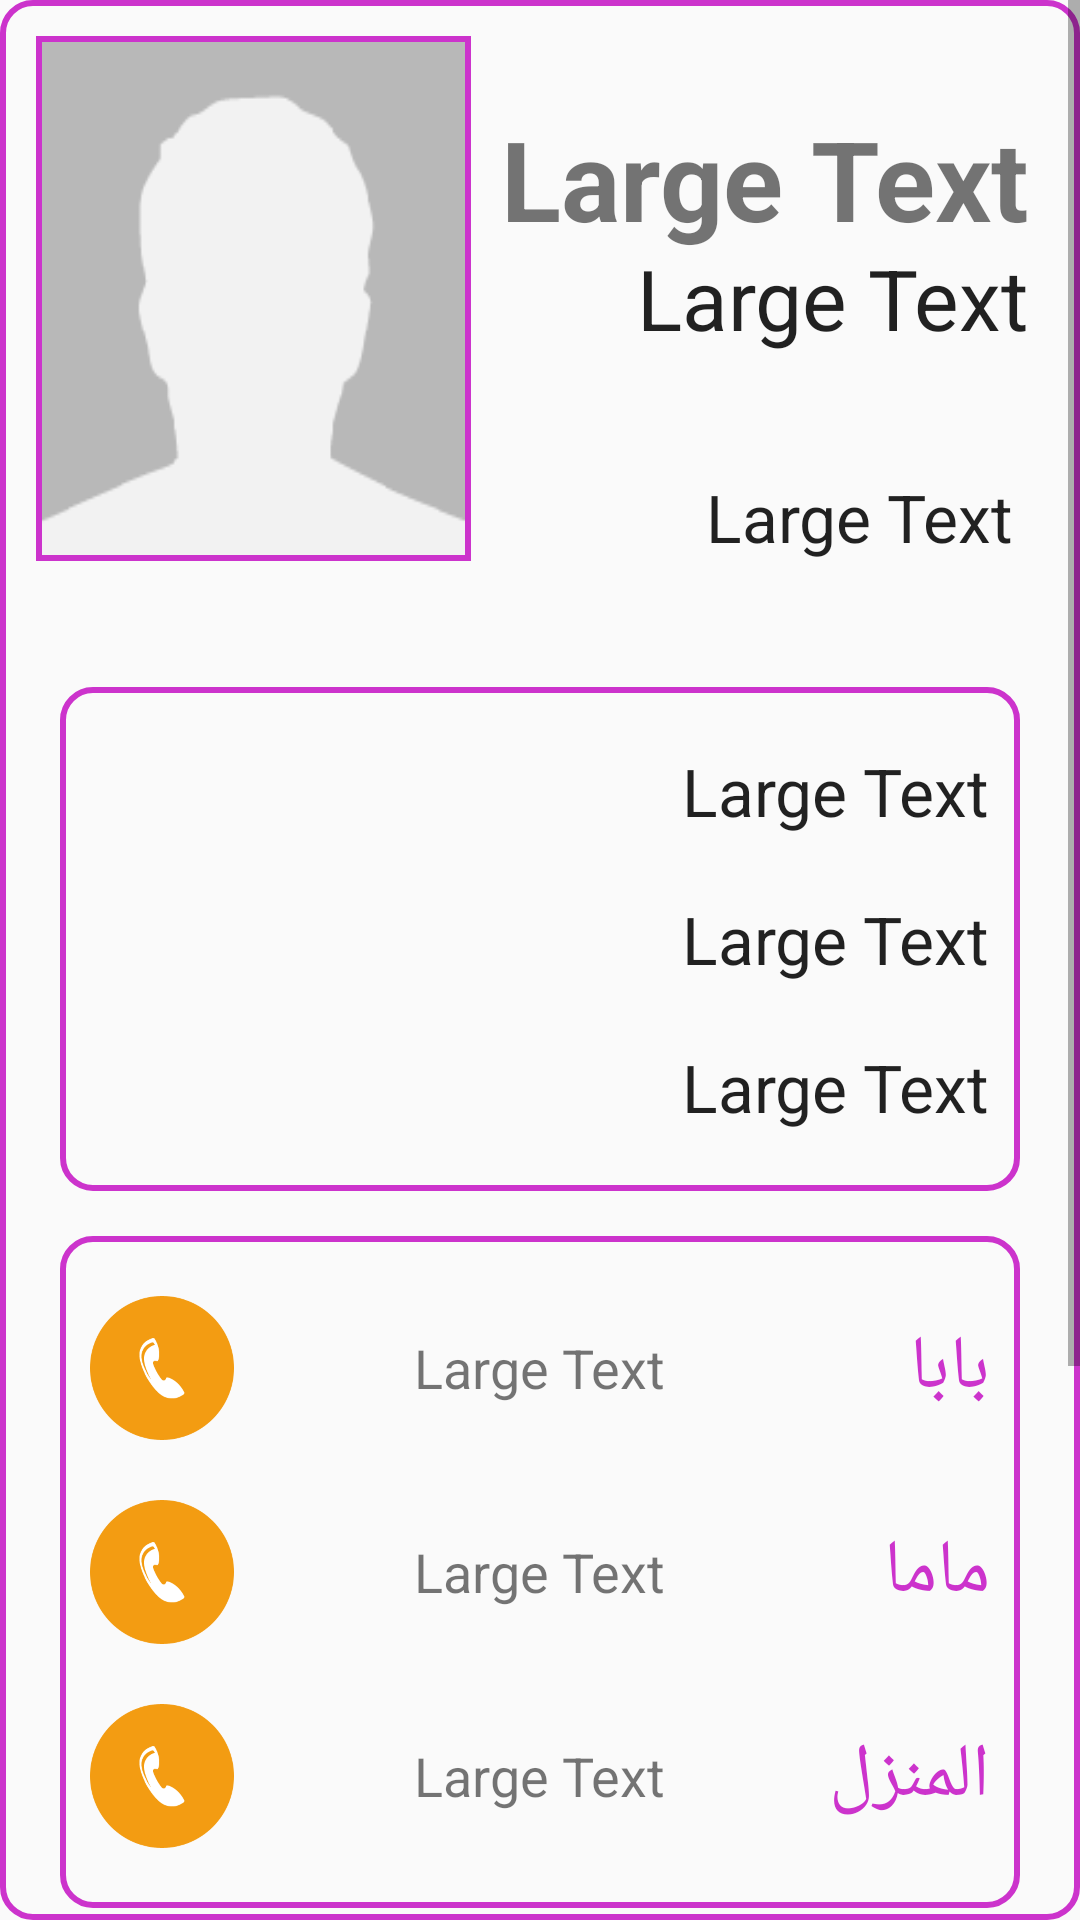

Icon bounding boxes for this 1080×1920 phone screenshot, format bbox=(x1, y1, x2, y2):
call: bbox=(90, 1296, 234, 1440), bbox=(90, 1500, 234, 1644), bbox=(90, 1704, 234, 1848)
